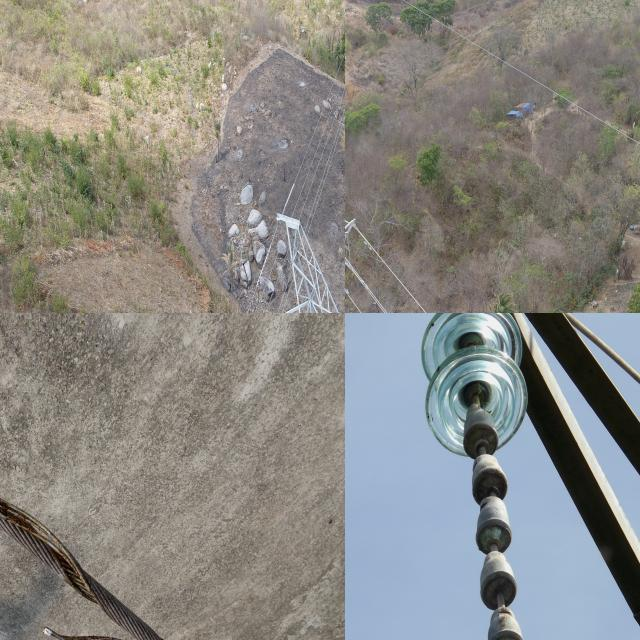正常电缆: (389, 0, 640, 150), (361, 233, 438, 313)
正常绝缘子: (412, 313, 552, 640), (345, 101, 349, 241)
电缆破损: (0, 313, 265, 587)
绝缘子破损: (474, 507, 513, 565), (479, 568, 518, 620), (461, 422, 501, 465), (471, 466, 510, 508)
